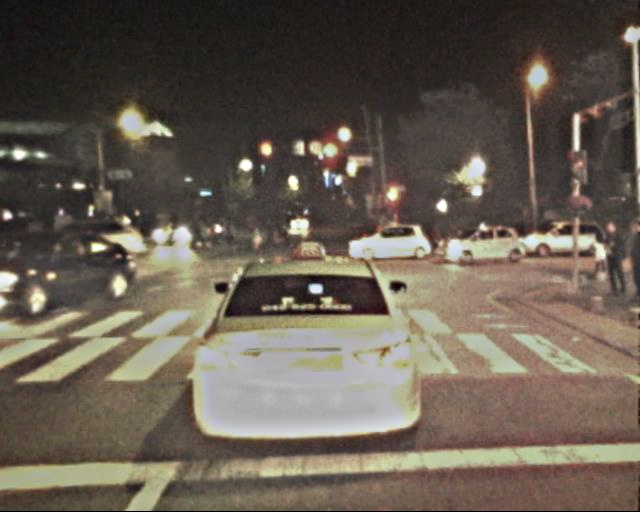person: (600, 223, 628, 291), (186, 214, 234, 249), (587, 229, 608, 279), (242, 215, 256, 250), (260, 217, 274, 250), (275, 217, 288, 248), (151, 217, 163, 247)
